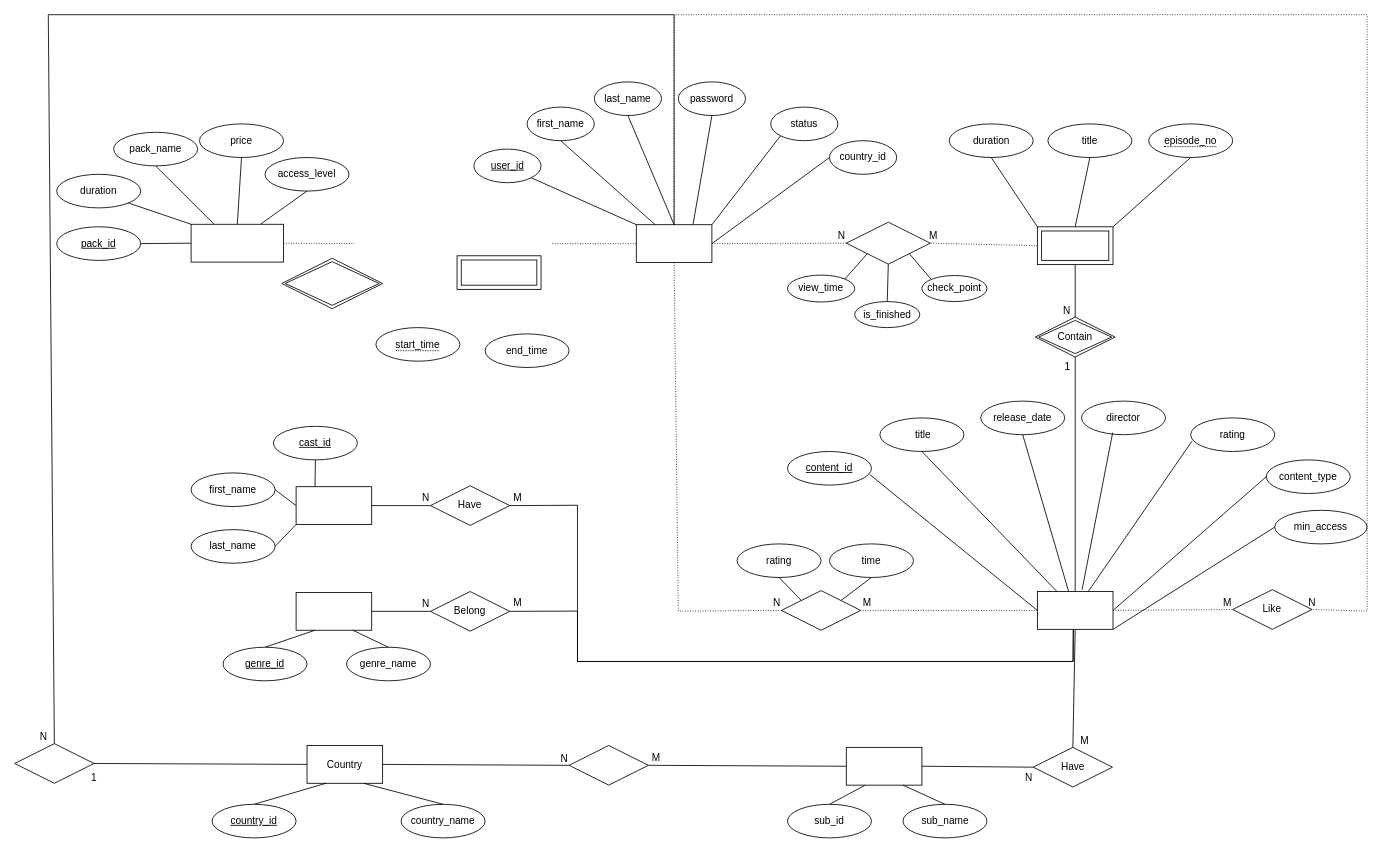
This 1383x853 diagram has some shape labels left out. Here are the shapes that lost their labels. From the top down, the centre of each, then its label:
the point at 237,242: Subscription_pack
the point at 673,243: User
the point at 887,242: Watch
the point at 1075,245: Episode
the point at 332,283: Relationship
the point at 498,272: Subscription
the point at 333,505: Cast
the point at 333,611: Genre
the point at 821,610: Rate
the point at 1075,610: Content
the point at 54,763: From
the point at 608,765: Use
the point at 883,766: Subtitle
